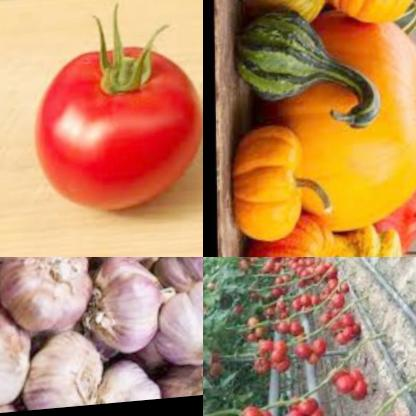garlic: (0, 257, 203, 415)
pumpkin: (274, 15, 416, 243), (230, 4, 384, 144), (230, 119, 308, 249), (236, 214, 341, 257), (302, 220, 416, 257), (360, 182, 416, 257), (328, 0, 416, 31), (232, 0, 332, 27)
tomato: (22, 23, 203, 221), (268, 260, 325, 309), (248, 338, 306, 385), (240, 314, 293, 352), (318, 308, 356, 359), (238, 257, 317, 281), (326, 368, 368, 411), (281, 294, 314, 342), (312, 285, 348, 316), (292, 340, 324, 374), (285, 396, 320, 416)
